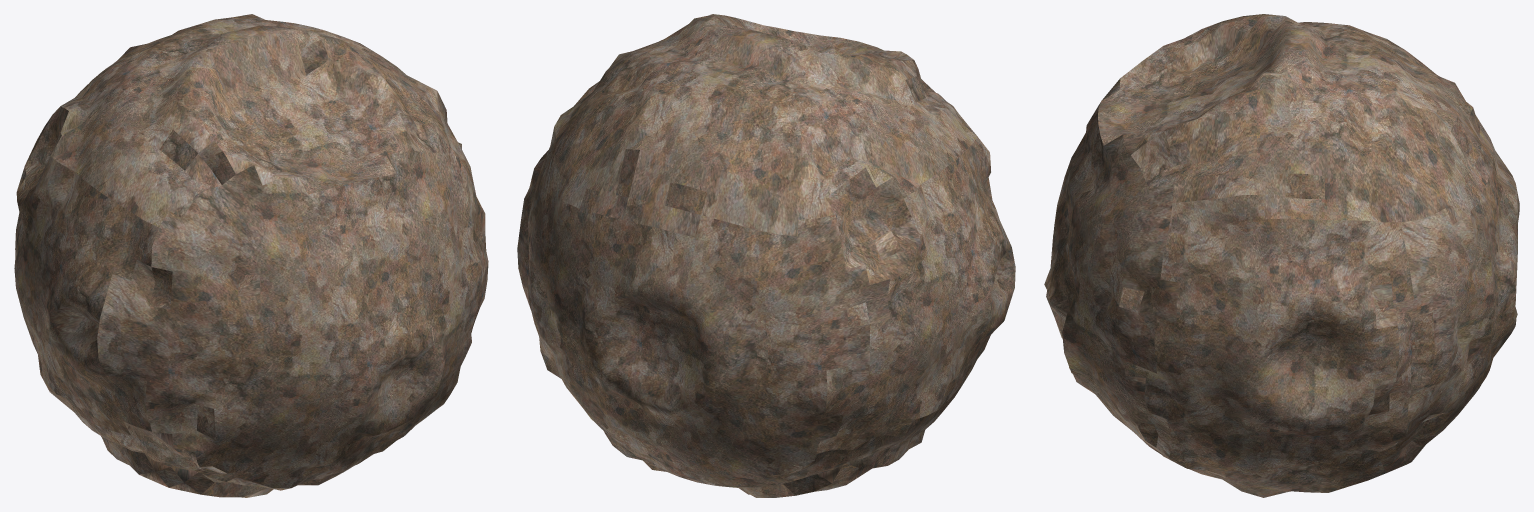
File: bigrelayplaneta.dae
The picture shows the model from 3 angles, left to right: view 1: azimuth 30°, elevation 25°; view 2: azimuth 150°, elevation 25°; view 3: azimuth 270°, elevation 25°; orthographic projection.
Visible parts, largest first — view 1: n0b0; view 2: n0b0; view 3: n0b0.
Boxes of the visible parts, <box> form: n0b0: <box>14,14,488,497</box>; n0b0: <box>517,14,1015,497</box>; n0b0: <box>1044,14,1519,497</box>.
Size of the model in its own units: 1517 by 1496 by 1488.
Materials: 1 (1 with a texture image).
